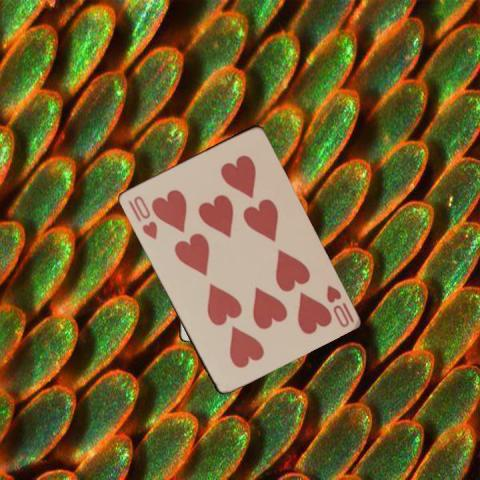10h: (125, 193, 158, 241), (323, 282, 355, 329)
